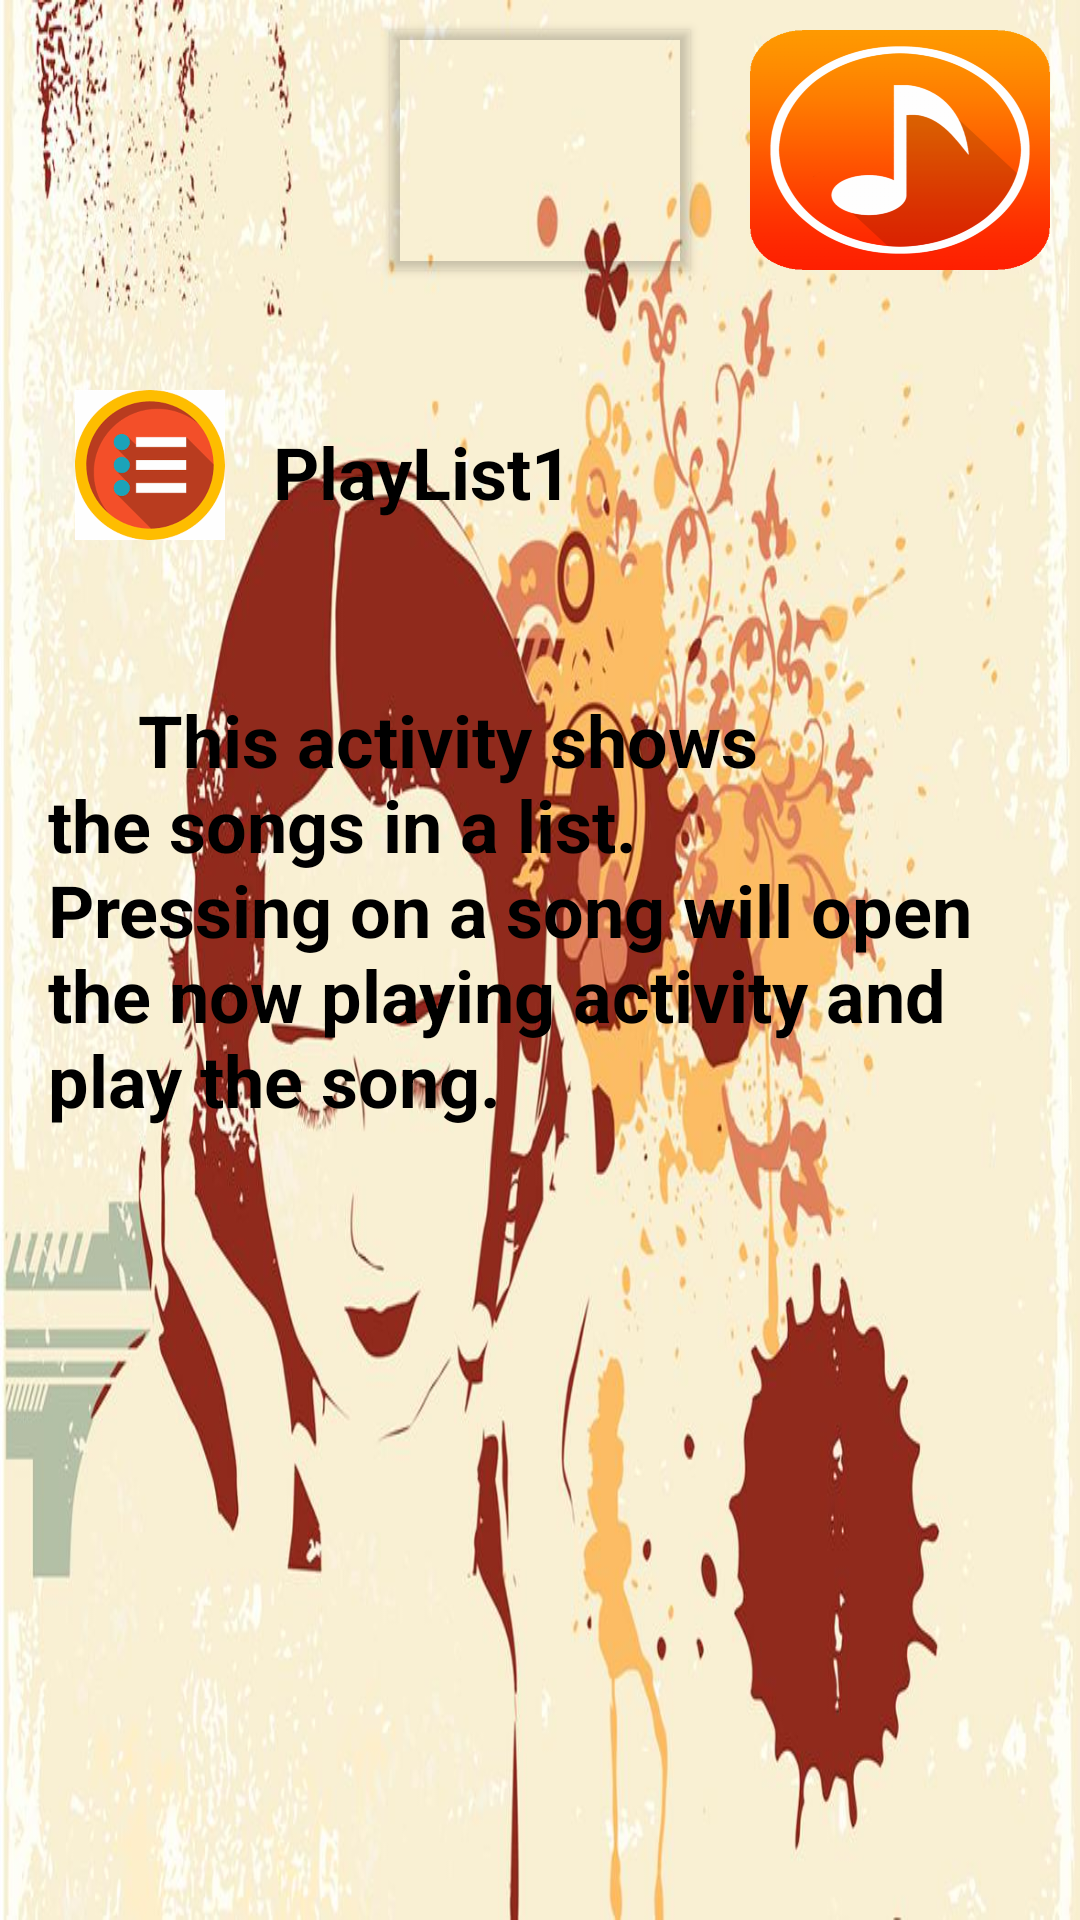

Screen size 1080px×1920px. Icon name, then its box in pixels as (x1, y1, x2, y2):
songs: (750, 30, 1050, 270)
